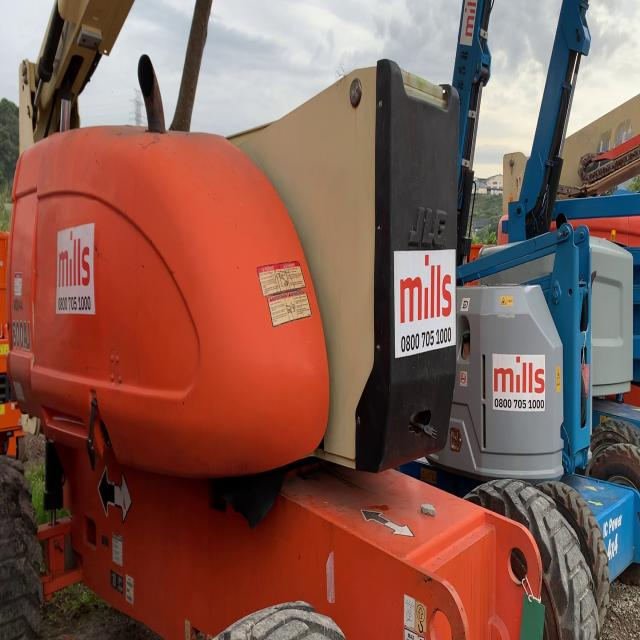Adesivos: (391, 247, 458, 368), (55, 220, 98, 317), (491, 353, 546, 413)
